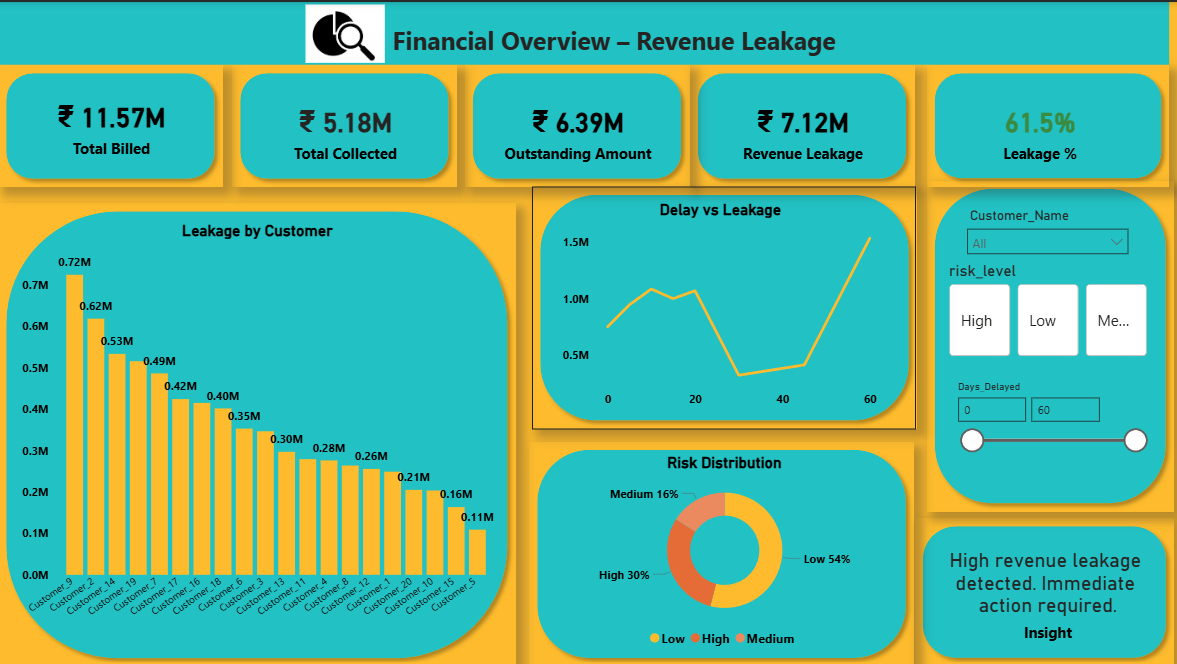

The page's visual inventory and layout, read from the dashboard file:
{"tool":"powerbi","page":{"name":"Financial Overview","canvas":[1280,720],"ordinal":1},"visuals":[{"type":"shape","box":[994,559.4,281.6,160.6],"z":0},{"type":"shape","box":[1007.3,192.8,268.3,359.1],"z":1000},{"type":"shape","box":[576.4,476.2,417.6,243.8],"z":2000},{"type":"shape","box":[578.3,200.3,417.6,262.7],"z":3000},{"type":"shape","box":[1006.8,68.3,263.5,131.8],"z":4000},{"type":"shape","box":[750.2,68,243.8,132.3],"z":5000},{"type":"shape","box":[506.5,68,243.8,132.3],"z":6000},{"type":"shape","box":[253.2,68,243.8,132.3],"z":7000},{"type":"shape","box":[0,68,243.8,132.3],"z":8000},{"type":"lineChart","title":"Delay vs Leakage","fields":{"Category":["revenue_processed.Days_Delayed"],"Y":["revenue_processed.Revenue Leakage"]},"box":[606.6,215.4,353.4,234.3],"z":9000},{"type":"shape","box":[0,217.3,561.3,502.7],"z":10000},{"type":"clusteredColumnChart","title":"Leakage by Customer","fields":{"Category":["revenue_processed.Customer_Name"],"Y":["revenue_processed.Revenue Leakage"]},"box":[18.9,238.1,523.5,440.3],"z":11000},{"type":"donutChart","title":"Risk Distribution","fields":{"Category":["revenue_processed.risk_level"],"Y":["CountNonNull(revenue_processed.Invoice_ID)"]},"box":[591.5,489.5,391.2,219.2],"z":12000},{"type":"slicer","fields":{"Values":["revenue_processed.Customer_Name"]},"box":[1041.3,217.3,194.6,64.3],"z":13000},{"type":"advancedSlicerVisual","fields":{"Values":["revenue_processed.risk_level"]},"box":[1026.1,281.6,226.8,107.7],"z":14000},{"type":"slicer","fields":{"Values":["revenue_processed.Days_Delayed"]},"box":[1028,404.4,226.8,107.7],"z":15000},{"type":"card","fields":{"Values":["revenue_processed.Leakage Insight"]},"box":[1007.3,570.7,262.7,136.1],"z":16000},{"type":"textbox","box":[0,0,1269.9,68],"z":17000},{"type":"card","fields":{"Values":["revenue_processed.Total Billed"]},"box":[35.9,96.4,173.9,75.6],"z":18000},{"type":"card","fields":{"Values":["revenue_processed.Total Collected"]},"box":[289.1,96.4,173.9,86.9],"z":19000},{"type":"card","fields":{"Values":["revenue_processed.Outstanding Amount"]},"box":[542.4,96.4,173.9,86.9],"z":20000},{"type":"card","fields":{"Values":["revenue_processed.Revenue Leakage"]},"box":[786.1,96.4,173.9,86.9],"z":21000},{"type":"card","fields":{"Values":["revenue_processed.Leakage %"]},"box":[1043.2,96.4,173.9,86.9],"z":22000},{"type":"image","box":[333.4,0,86.2,68.3],"z":22001}]}

Visuals, with their boxes in screenshot pixels (x1, y1, x2, y2), scaled from the page's 1280x720 canvas onto the 1177x664 screenshot:
shape: <box>914,516,1173,663</box>
shape: <box>926,178,1173,509</box>
shape: <box>530,439,914,663</box>
shape: <box>532,185,916,427</box>
shape: <box>926,63,1168,185</box>
shape: <box>690,63,914,185</box>
shape: <box>466,63,690,185</box>
shape: <box>233,63,457,185</box>
shape: <box>0,63,224,185</box>
"Delay vs Leakage" lineChart: <box>558,199,883,415</box>
shape: <box>0,200,516,663</box>
"Leakage by Customer" clusteredColumnChart: <box>17,220,499,626</box>
"Risk Distribution" donutChart: <box>544,451,904,654</box>
slicer - revenue_processed.Customer_Name: <box>958,200,1136,260</box>
advancedSlicerVisual - revenue_processed.risk_level: <box>944,260,1152,359</box>
slicer - revenue_processed.Days_Delayed: <box>945,373,1154,472</box>
card - revenue_processed.Leakage Insight: <box>926,526,1168,652</box>
textbox: <box>0,0,1168,63</box>
card - revenue_processed.Total Billed: <box>33,89,193,159</box>
card - revenue_processed.Total Collected: <box>266,89,426,169</box>
card - revenue_processed.Outstanding Amount: <box>499,89,659,169</box>
card - revenue_processed.Revenue Leakage: <box>723,89,883,169</box>
card - revenue_processed.Leakage %: <box>959,89,1119,169</box>
image: <box>307,0,386,63</box>
